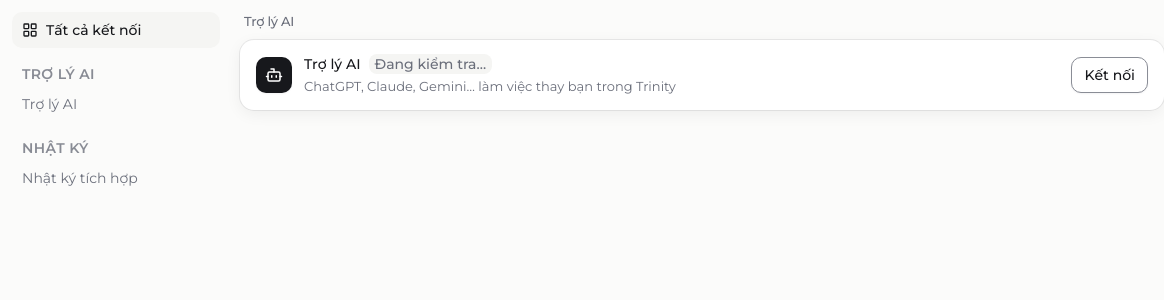
Scenario: <SettingsIntegrations> — Nhật ký tích hợp › ai_admin + cờ bật → tải nhật ký; 'Tải thêm' kích trang kế bằng cursor và nối dòng
The image size is (1164, 300).
Click the button "Nhật ký tích hợp" at (116, 178), box [12,160,220,196]
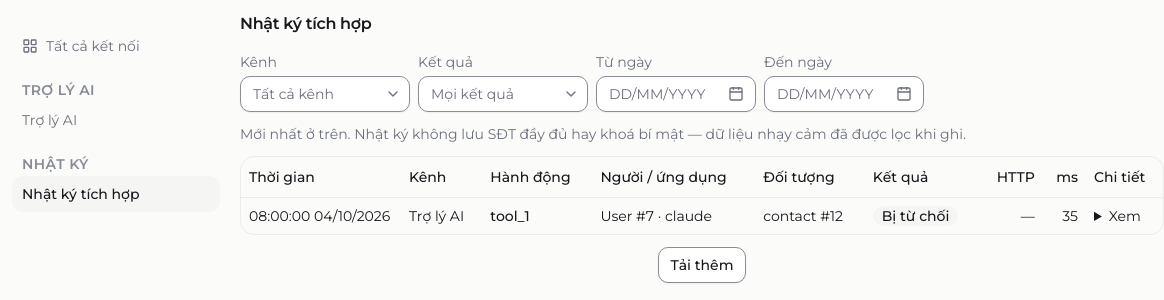
Expected: the text "tool_1" is shown, [482,197,592,234]
Expected: the text "Bị từ chối" is shown, [873,206,958,226]
Click the button "Tải thêm" at (702, 264), box [658,246,746,282]
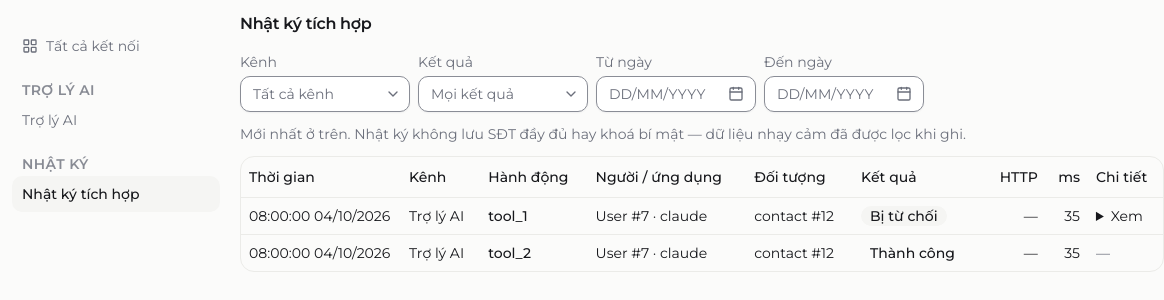
Expected: the text "tool_1" is shown, [480,197,588,234]
Expected: the text "tool_2" is shown, [480,234,588,270]
Expected: the button "Tải thêm" is gone
